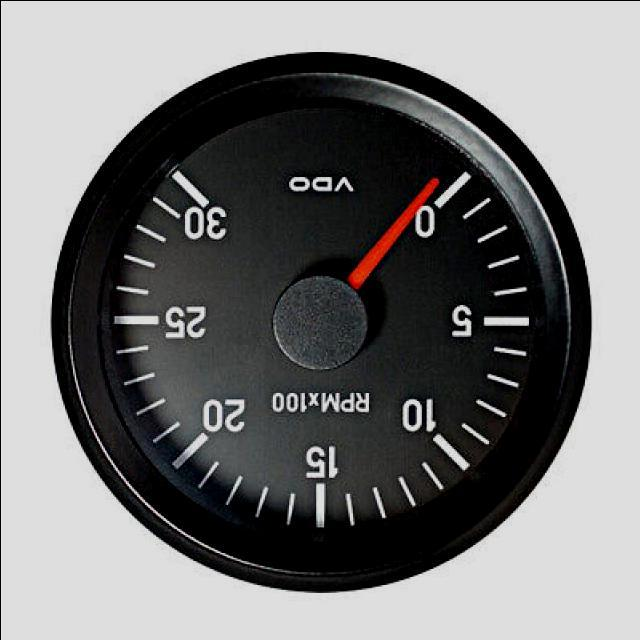Needle_Tip: (405, 157, 447, 204)
Needle_base: (275, 285, 357, 372)
max_value: (175, 195, 230, 248)
min_value: (394, 185, 446, 251)
